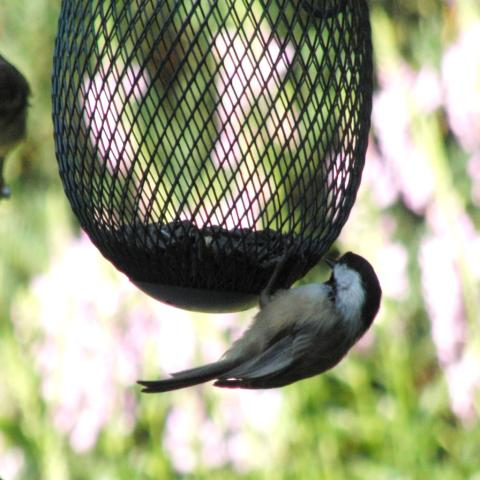bird: (135, 248, 383, 396)
